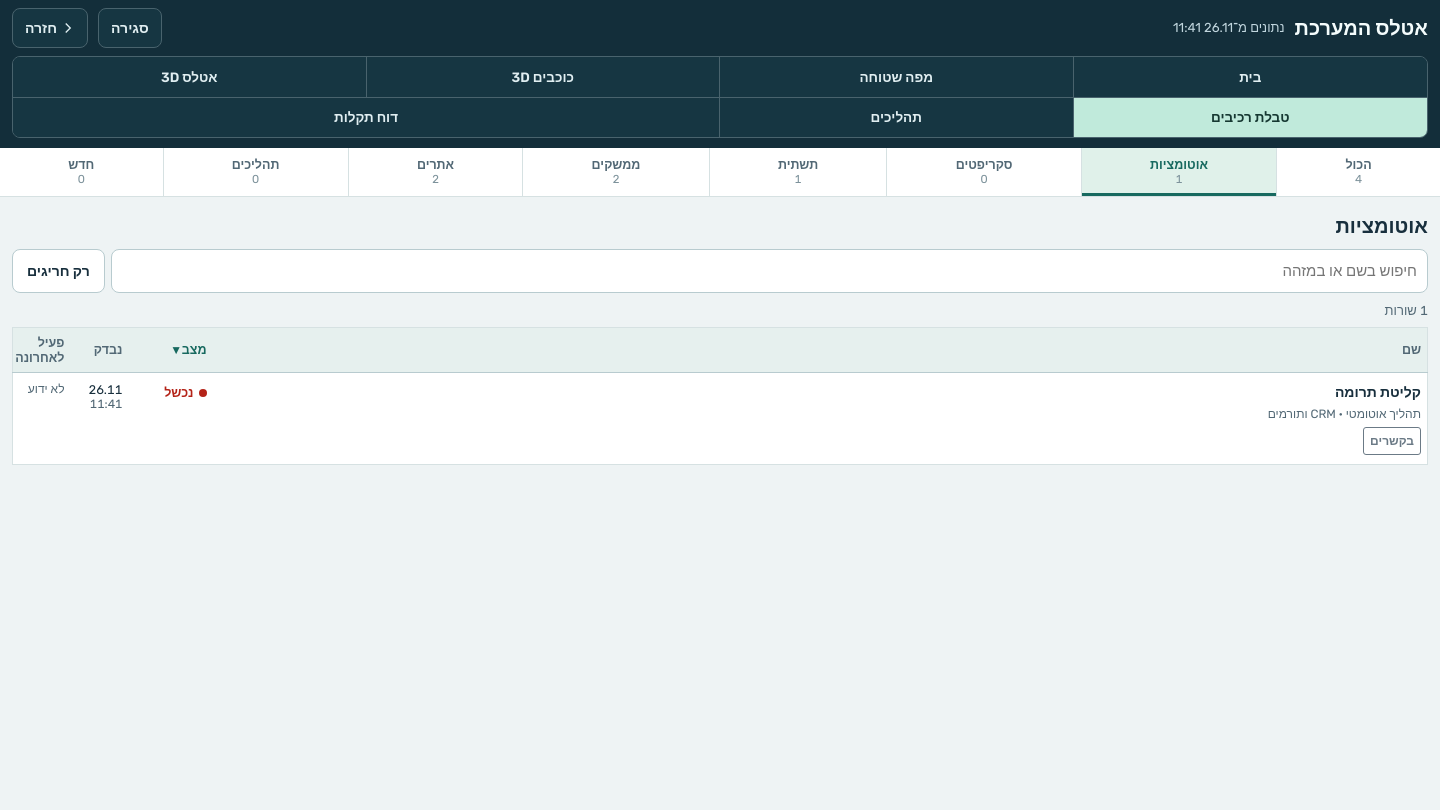
it: System atlas (beside the existing System screens) › a row tap opens the item on the map with its sheet
The width and height of the screenshot is (1440, 810).
Click the text "קליטת תרומה" at (1378, 392), box [1335,384,1421,400]
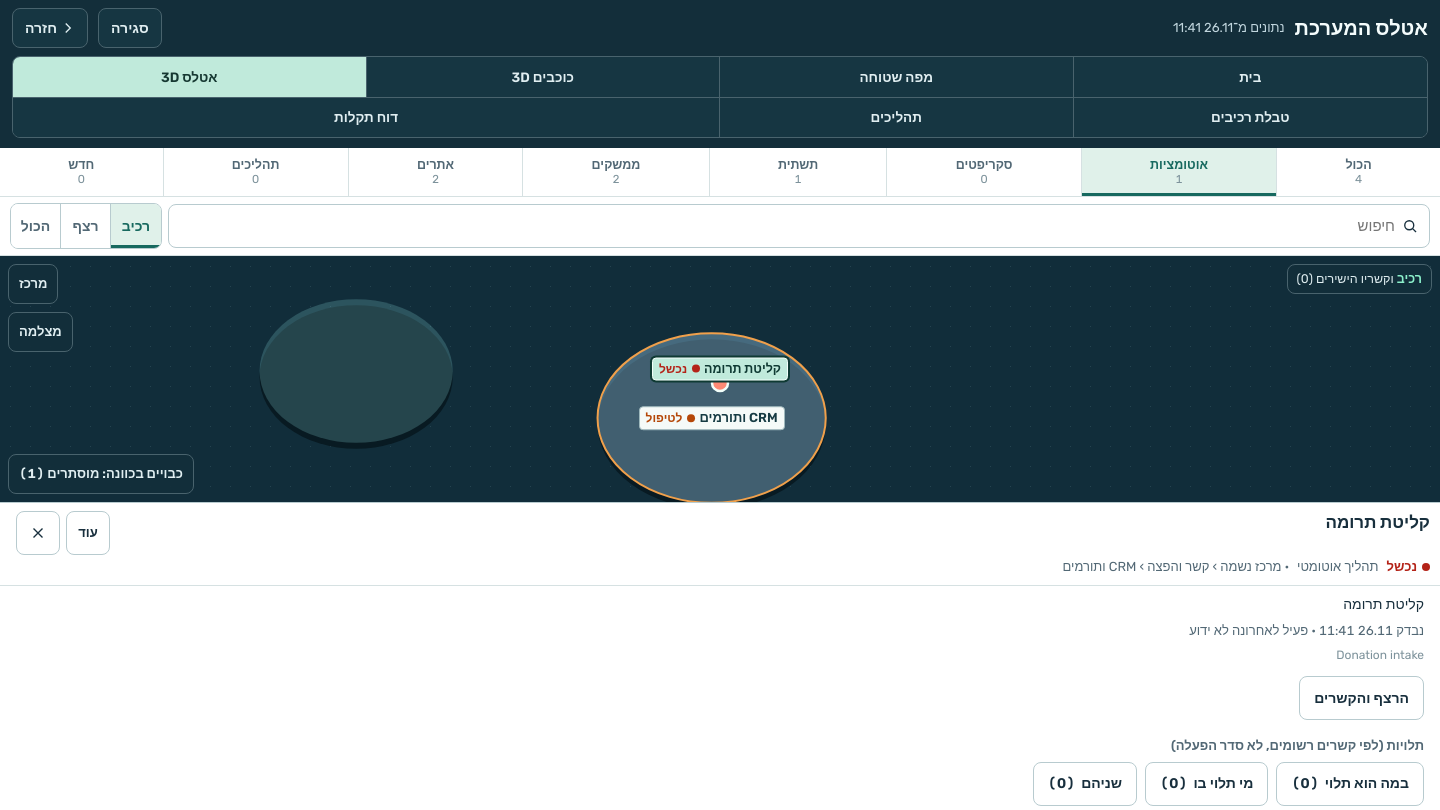
Now the heading "קליטת תרומה" is shown, box [1325,512,1430,532]
